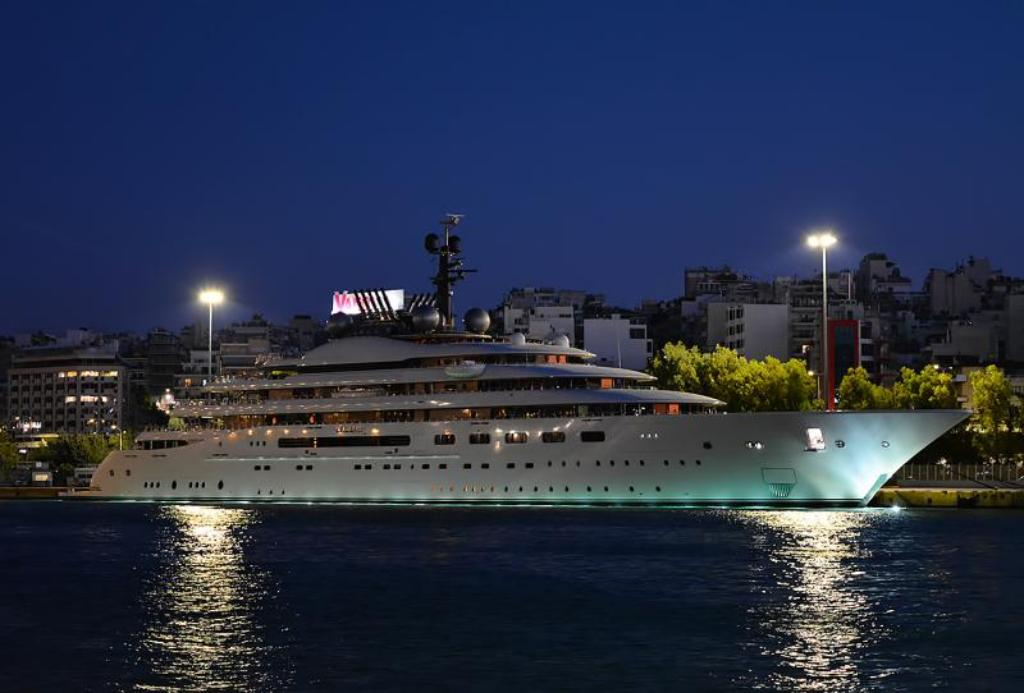PassengerShip: (52, 209, 978, 517)
